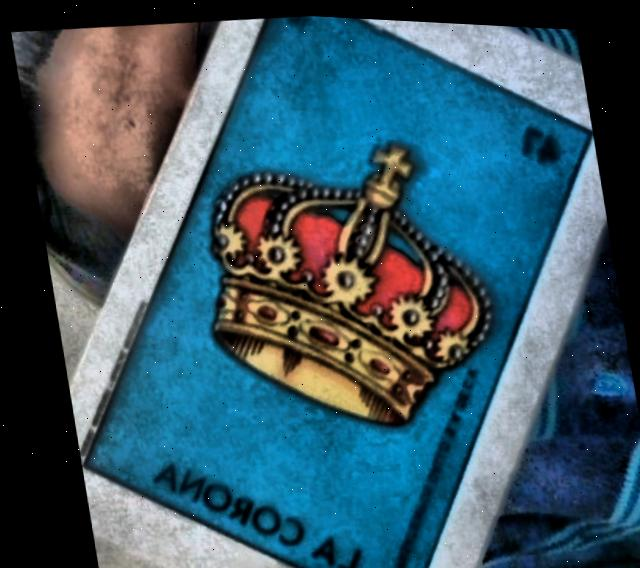La Corona: (77, 12, 591, 568)
